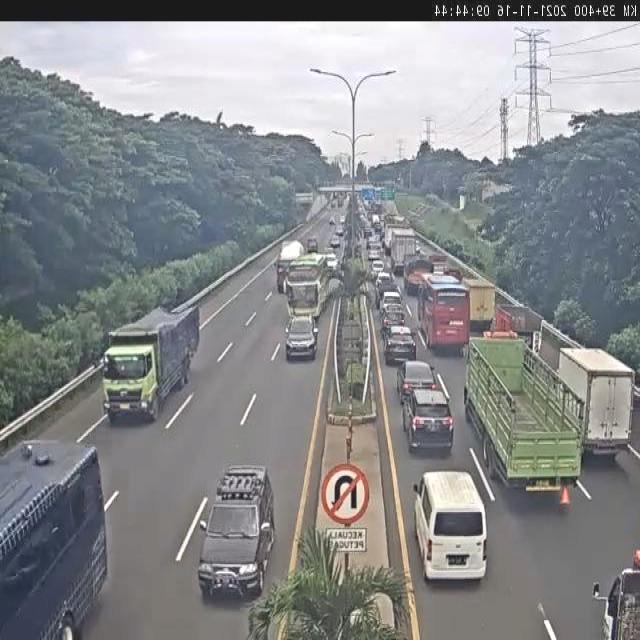Bus: (0, 416, 115, 640), (411, 272, 474, 354), (282, 254, 331, 320)
Car: (192, 458, 296, 603), (406, 386, 458, 456), (281, 309, 323, 361), (396, 357, 436, 402), (385, 326, 416, 363), (380, 305, 407, 333), (326, 252, 341, 274), (370, 259, 387, 275), (306, 234, 317, 255), (329, 236, 341, 250)
Truck: (462, 334, 593, 506), (95, 294, 212, 440), (530, 340, 639, 453), (491, 300, 547, 348), (464, 275, 498, 330), (274, 240, 304, 289), (390, 229, 418, 277), (404, 256, 432, 291)
Van: (411, 468, 491, 585)
